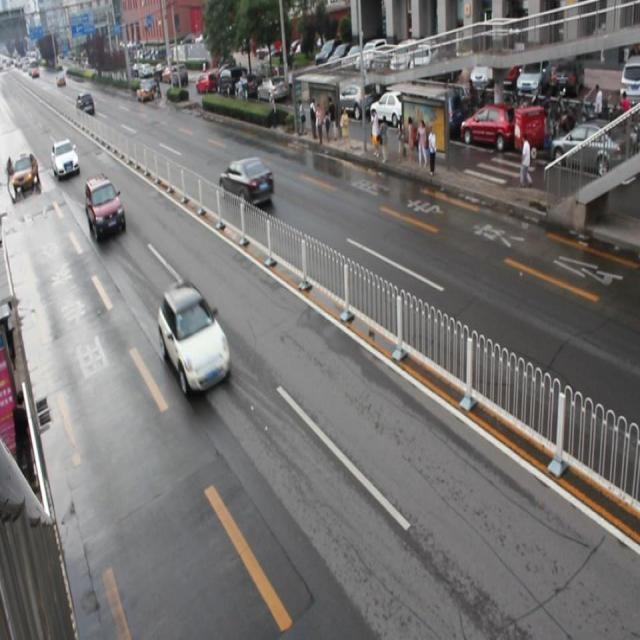car: (157, 282, 231, 396), (218, 155, 275, 210), (85, 173, 125, 242), (51, 138, 79, 180)
